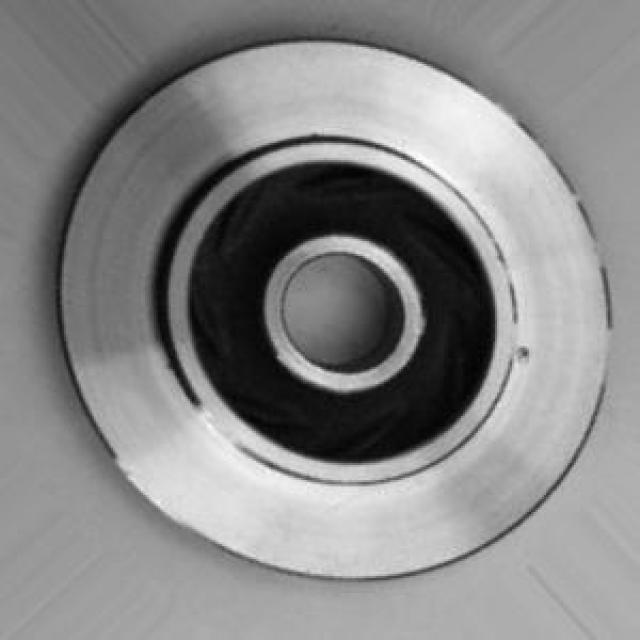Defect: (516, 335, 537, 374)
